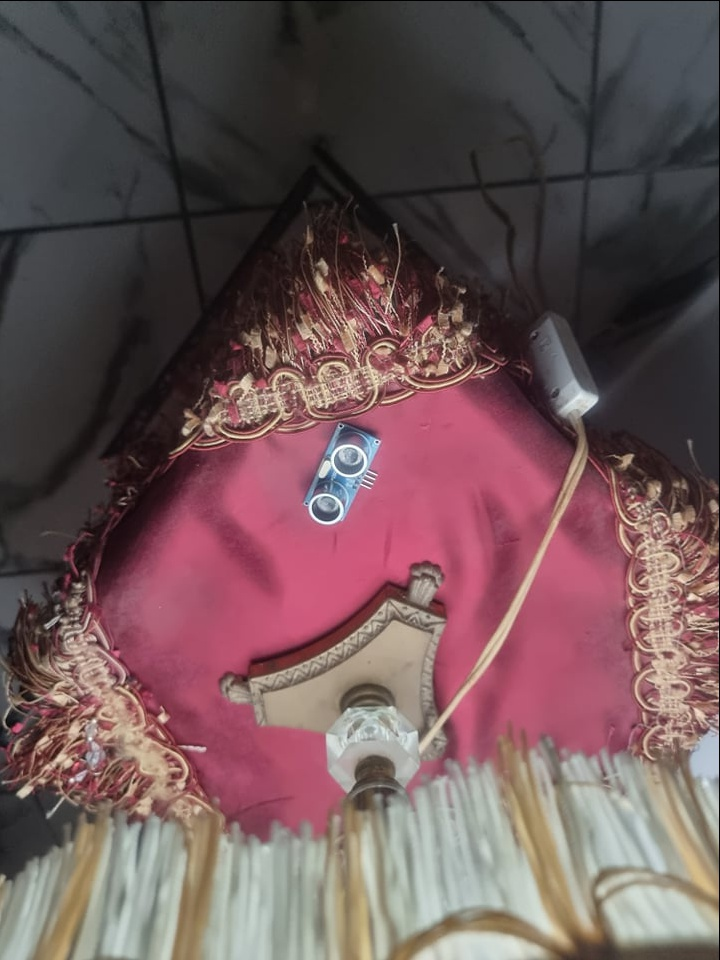SENSOR: (305, 421, 382, 525)
